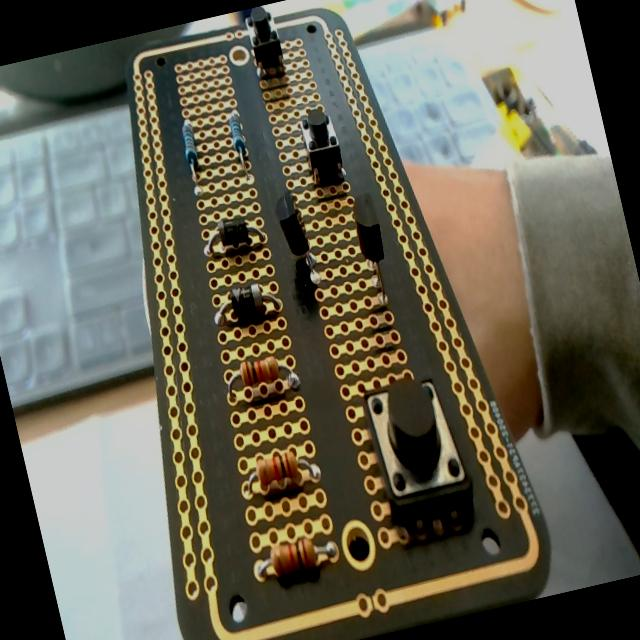diode: (209, 278, 284, 332), (198, 212, 266, 260)
resistor: (254, 530, 340, 584), (238, 444, 320, 499), (222, 354, 302, 409), (176, 116, 207, 194), (225, 108, 255, 186)
switch: (356, 368, 481, 542), (296, 102, 347, 186), (242, 4, 288, 79)
transistor: (348, 192, 398, 307), (271, 190, 322, 288)
